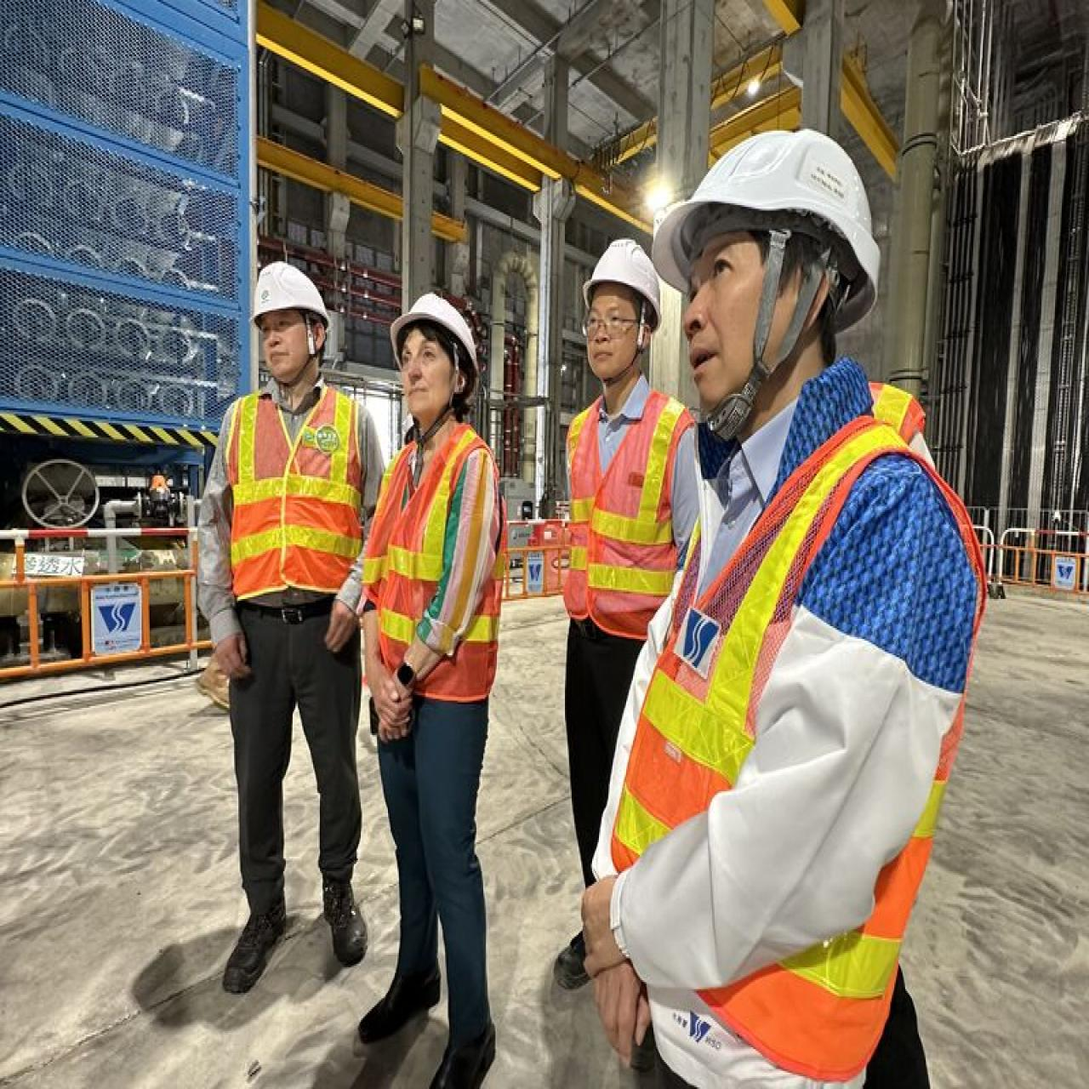Person: (587, 127, 978, 1081), (201, 251, 389, 986), (356, 280, 507, 1073), (558, 242, 695, 1028)
Safety_Vest: (594, 386, 968, 1078), (364, 418, 502, 709), (564, 390, 693, 640), (223, 388, 371, 605)
